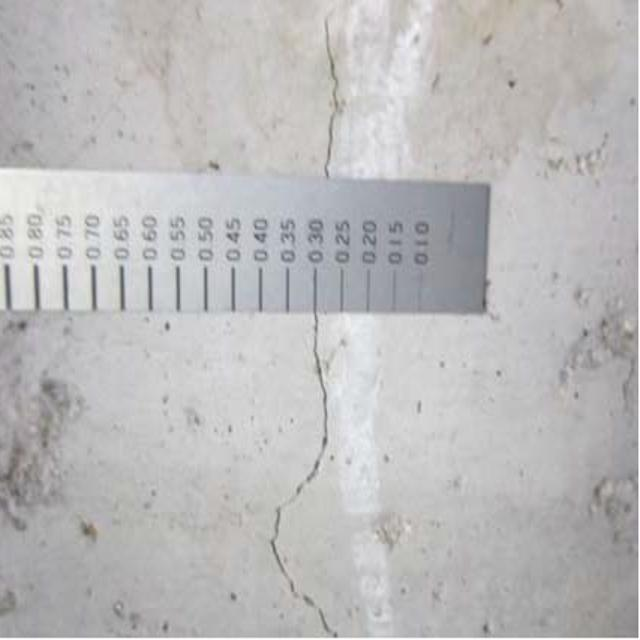crack: (270, 311, 350, 640), (311, 6, 346, 184)
